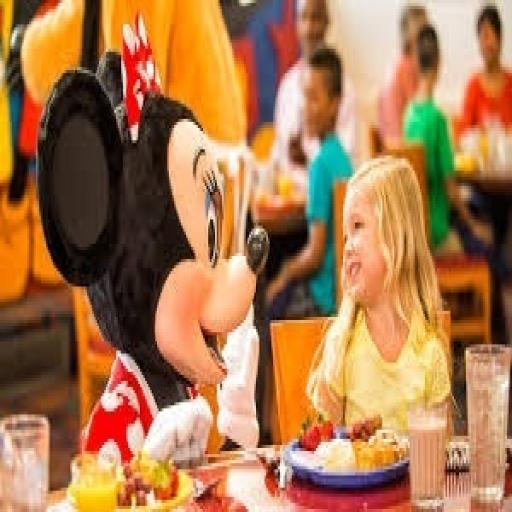eating: (304, 152, 454, 439)
